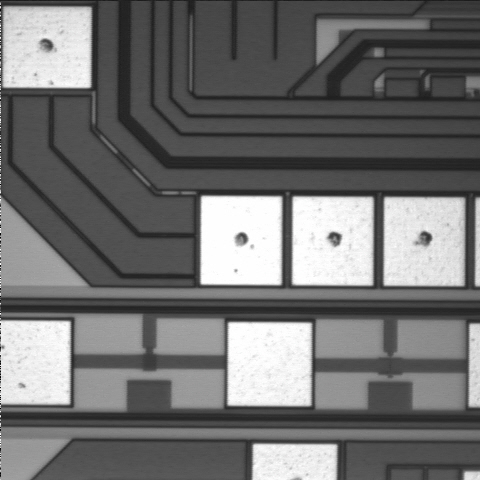pad: (200, 196, 282, 285), (292, 197, 373, 286), (3, 7, 91, 88), (384, 197, 464, 286), (228, 322, 312, 406)
